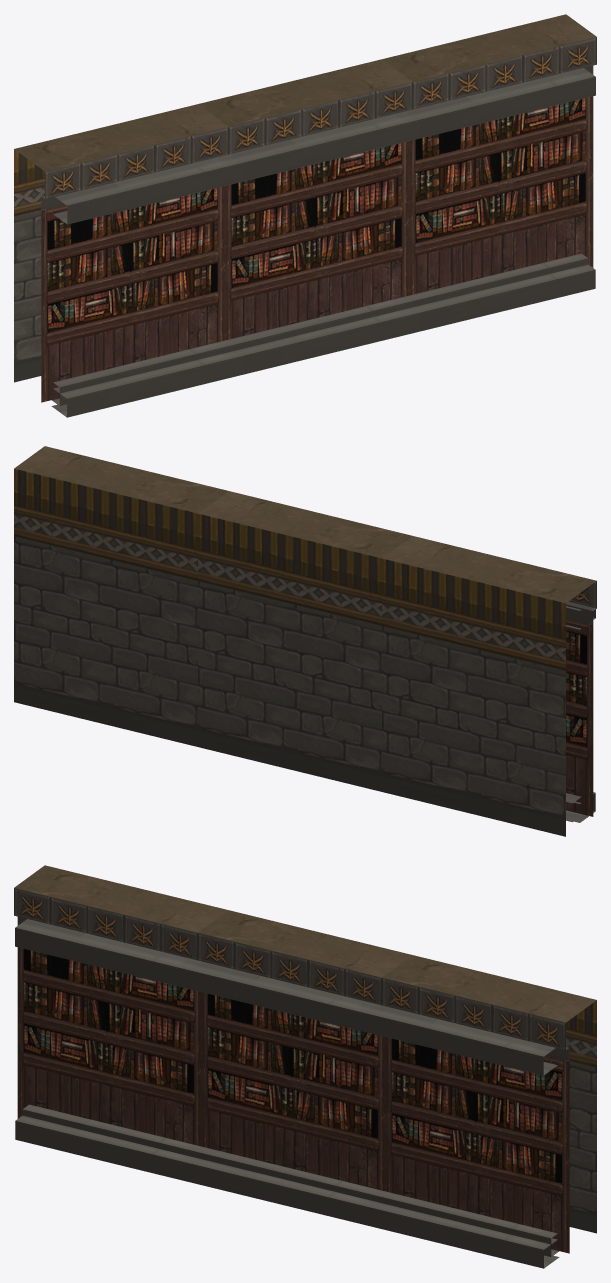
Rendered from Battle06_Wall_08.FBX.
The picture shows the model from 3 angles, top to bottom: view 1: azimuth 30°, elevation 25°; view 2: azimuth 150°, elevation 25°; view 3: azimuth 330°, elevation 25°; orthographic projection.
Visible parts, largest first — view 1: Battle06_Wall_08; view 2: Battle06_Wall_08; view 3: Battle06_Wall_08.
Part boxes in pixels (x1,y1,x2,y2): Battle06_Wall_08: (14, 14, 596, 417); Battle06_Wall_08: (14, 446, 596, 836); Battle06_Wall_08: (14, 865, 596, 1268).
Bounding box in the file's own units: 22.9 × 9.56 × 2.98.
